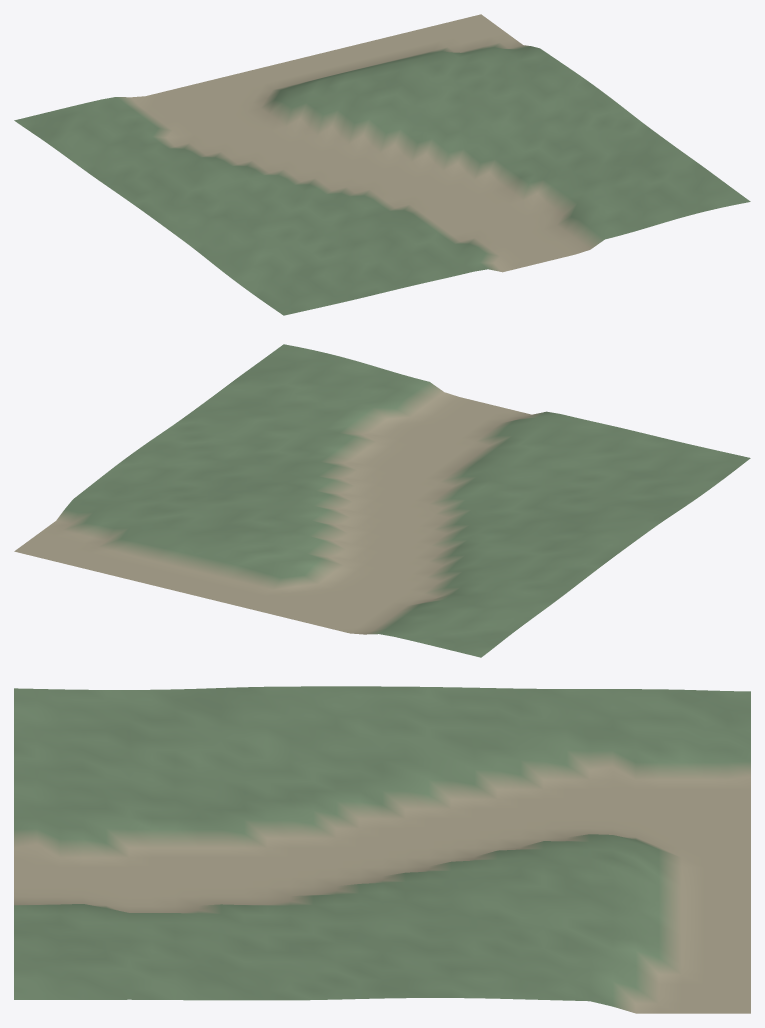
3 renders of one model, top to bottom at view 1: azimuth 30°, elevation 25°; view 2: azimuth 150°, elevation 25°; view 3: azimuth 270°, elevation 25°, orthographic. The views are drawn at different scales.
Parts seen in each view (by area): view 1: Terrain-col; view 2: Terrain-col; view 3: Terrain-col.
Part boxes in pixels (bbox=[...]): Terrain-col: bbox=[14, 14, 750, 315]; Terrain-col: bbox=[14, 344, 750, 657]; Terrain-col: bbox=[14, 686, 750, 1013].
Size of the model in its own units: 256 by 7.81 by 256.
